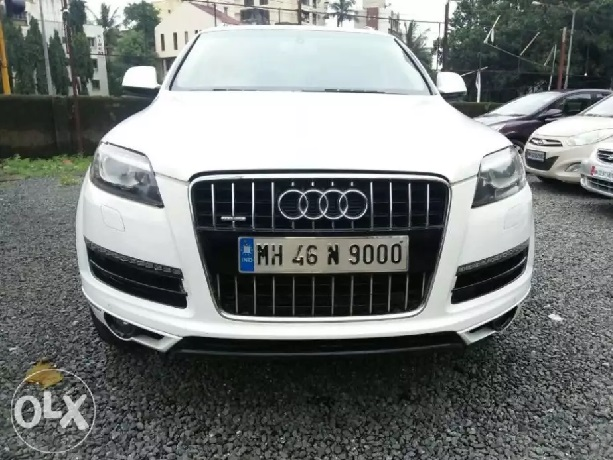licenseplate: (233, 233, 410, 275)
